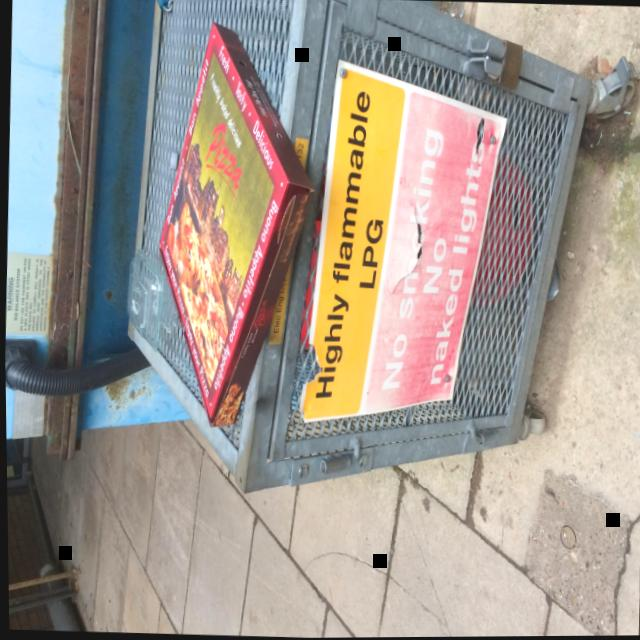Disposable food container: (125, 249, 174, 351)
Pizza box: (157, 23, 312, 425)
